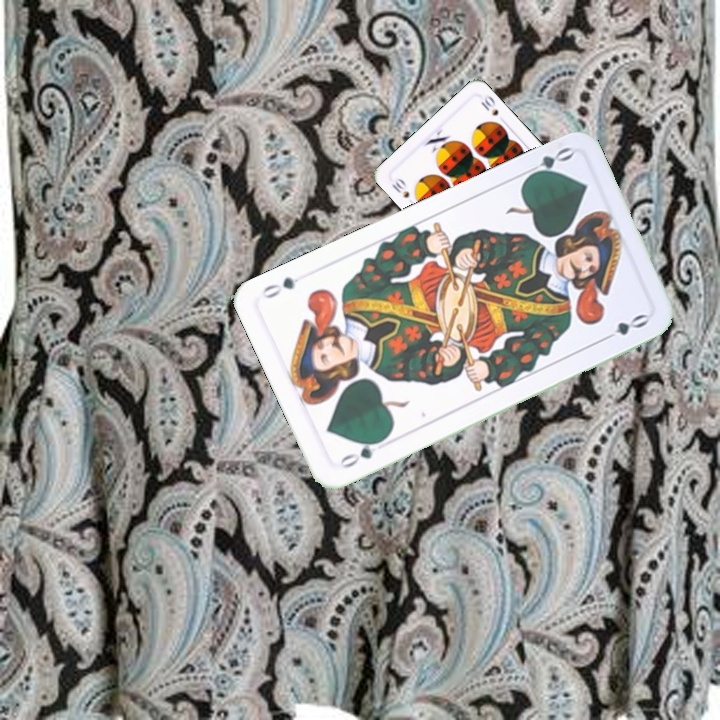GO: (519, 142, 576, 182), (334, 434, 388, 471)
S10: (388, 174, 412, 201)
